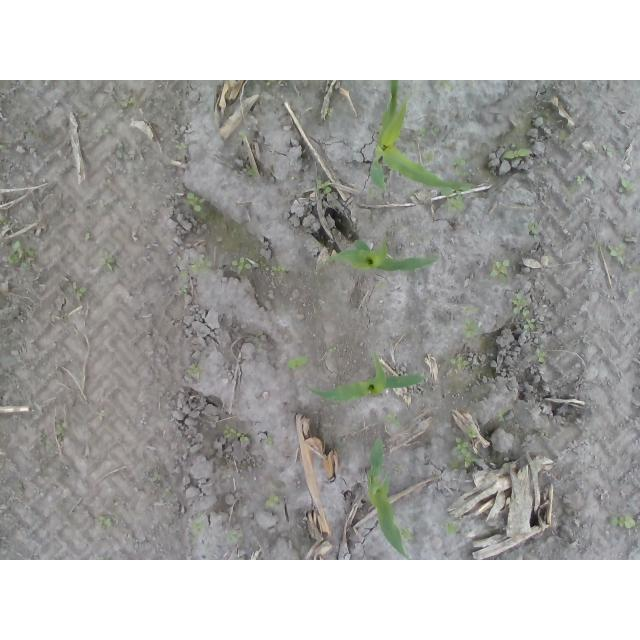Maize: (370, 80, 477, 194), (305, 353, 428, 404), (367, 436, 414, 560), (325, 238, 439, 274)
Weeds: (448, 426, 480, 471), (512, 287, 537, 331), (1, 239, 37, 269), (440, 187, 472, 213), (592, 240, 625, 265), (223, 424, 250, 445), (489, 257, 511, 282), (462, 319, 482, 344), (500, 142, 528, 159), (39, 432, 57, 457), (191, 513, 206, 543), (608, 515, 640, 529), (450, 159, 472, 178), (260, 259, 289, 273), (231, 255, 253, 273), (186, 192, 205, 212), (287, 355, 313, 369), (96, 255, 116, 273), (312, 176, 333, 193), (449, 356, 472, 371), (265, 495, 282, 514), (439, 520, 457, 537), (398, 526, 415, 543), (191, 256, 208, 273), (225, 527, 243, 543), (187, 363, 205, 379), (618, 176, 634, 193), (383, 413, 401, 428), (72, 286, 88, 302), (403, 134, 418, 150), (55, 415, 65, 439), (96, 515, 113, 529), (495, 407, 509, 423), (438, 80, 454, 92), (266, 80, 289, 88), (535, 348, 545, 365), (558, 128, 570, 141), (324, 108, 337, 120), (245, 166, 258, 178), (603, 143, 614, 157), (97, 128, 114, 137), (422, 150, 434, 162), (114, 497, 127, 508), (392, 463, 405, 474), (0, 215, 12, 225), (122, 144, 129, 161), (464, 306, 481, 313), (246, 80, 253, 96), (175, 142, 189, 150), (221, 470, 232, 480), (263, 436, 273, 447), (537, 110, 550, 118), (575, 175, 585, 185), (179, 284, 189, 294), (25, 128, 36, 137), (527, 224, 537, 233), (430, 126, 439, 136), (128, 96, 137, 106), (418, 127, 426, 137), (327, 345, 337, 353), (312, 240, 321, 248), (96, 409, 105, 417), (0, 144, 8, 152), (368, 187, 375, 194)
